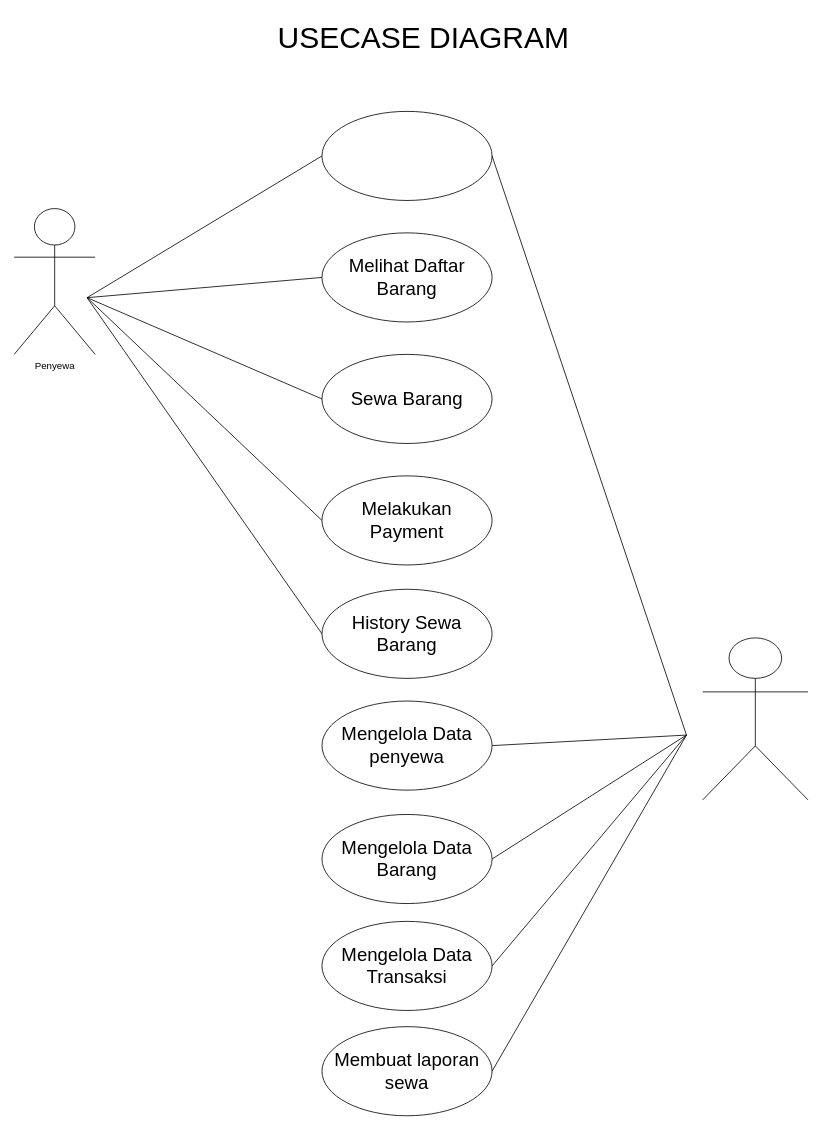
The diagram is 822 pixels wide and 1130 high, and some of its shapes have lost their labels. Here are the shapes that lost their labels. From the top down, the box of each, then its label:
(321, 111, 492, 200): Login
(702, 637, 808, 800): Admin
